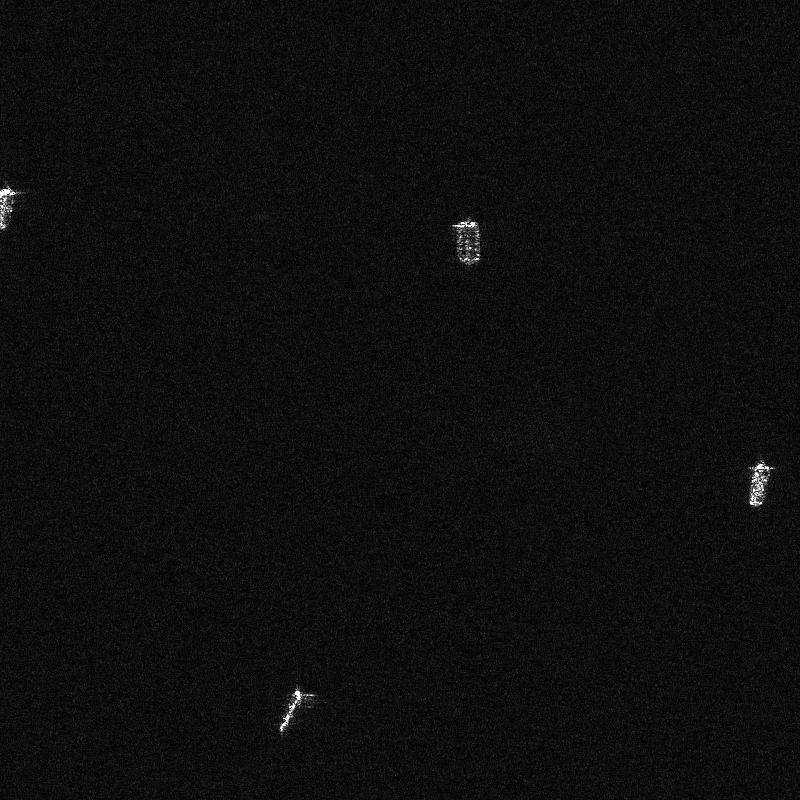ship: (456, 219, 481, 264), (748, 461, 770, 506), (279, 690, 302, 733), (0, 187, 14, 228)
